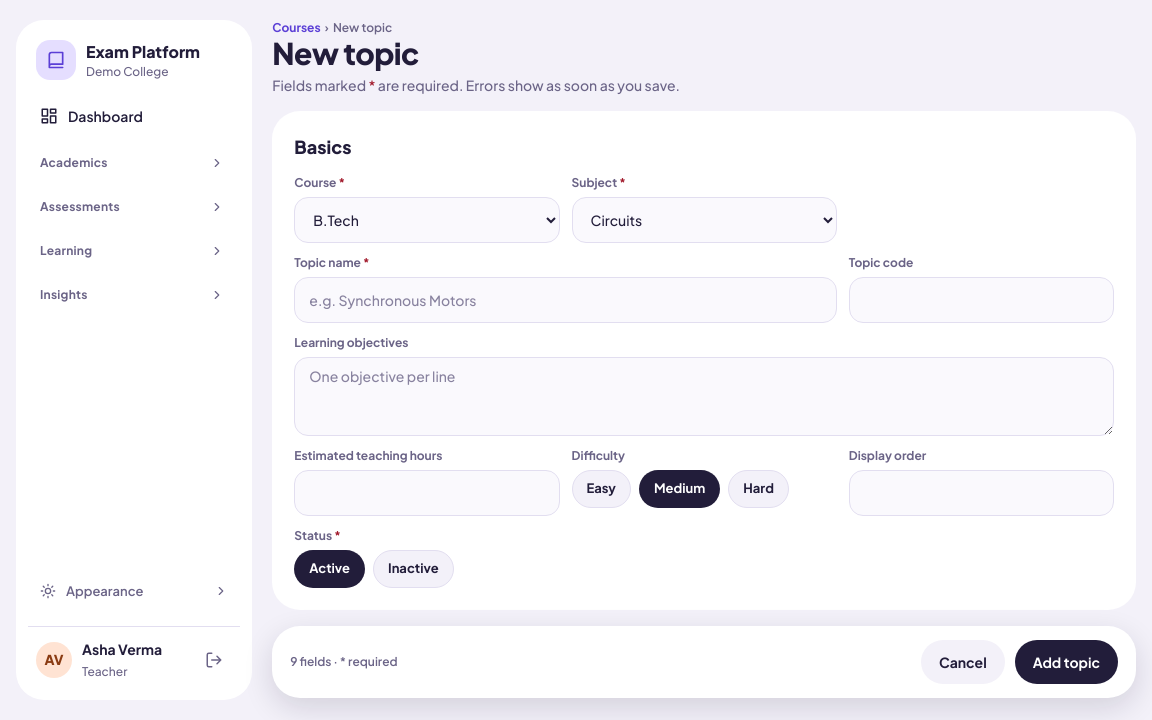
Test: Course, subject and topic pages › a teacher adds a topic to a subject; the course comes from the subject
The image size is (1152, 720).
Expected: the dropdown with test id "topic-form-course-select" shows "B.Tech", [294, 197, 560, 243]
Expected: the dropdown with test id "topic-form-subject-select" shows "Circuits", [572, 197, 837, 243]
Type "Ohm's Law" into the field with test id "topic-form-name-input".
click(566, 300); type("Ohm's Law")  # box [294, 277, 837, 323]
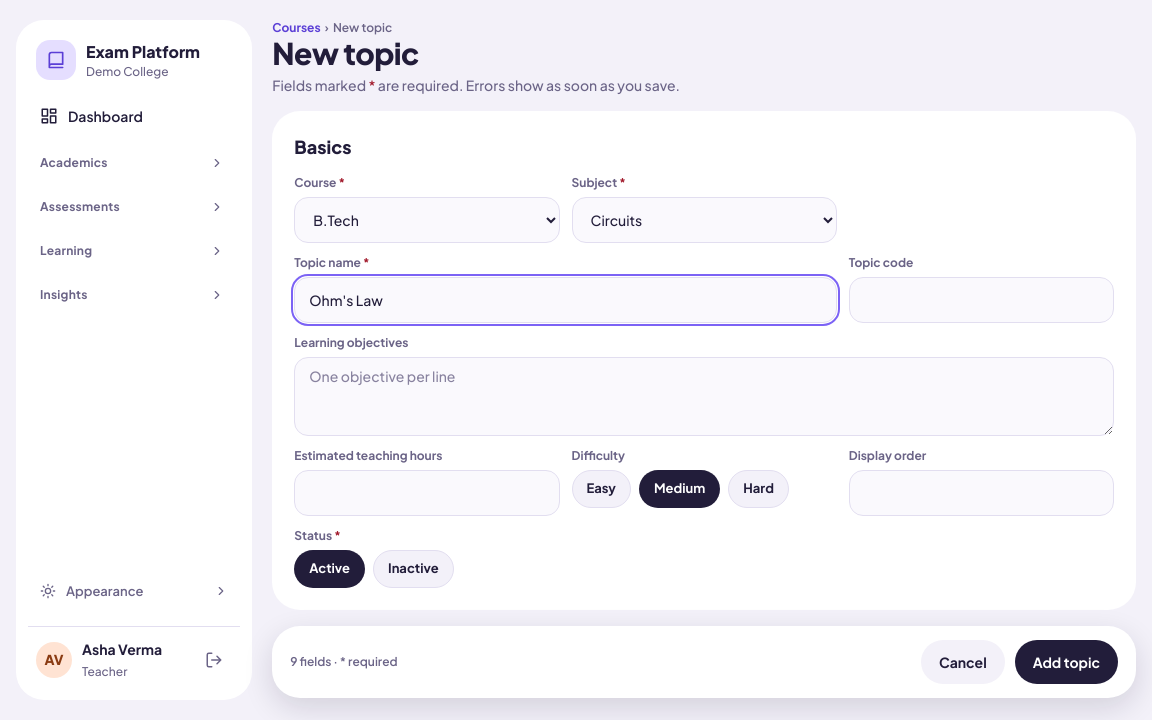
Click the radio button with test id "topic-form-difficulty-radio" showing "Hard".
click(759, 489)  # box [728, 470, 789, 508]
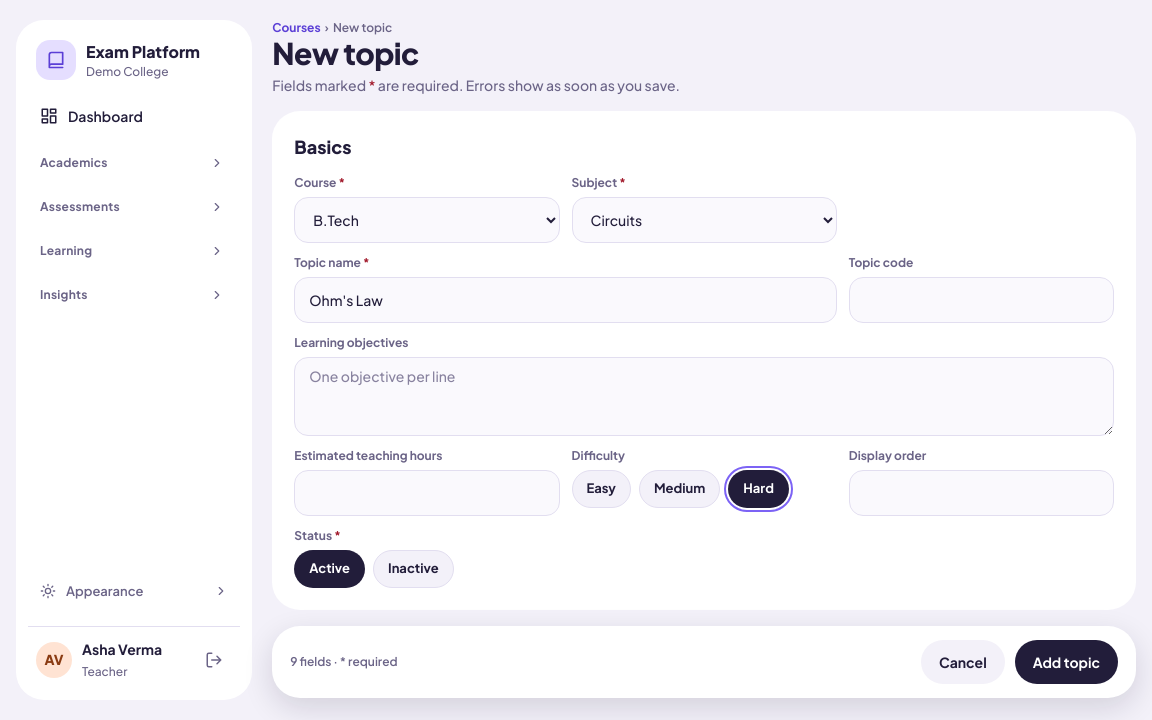
Click the button with test id "topic-form-save-btn".
click(1066, 662)  # box [1015, 640, 1118, 684]
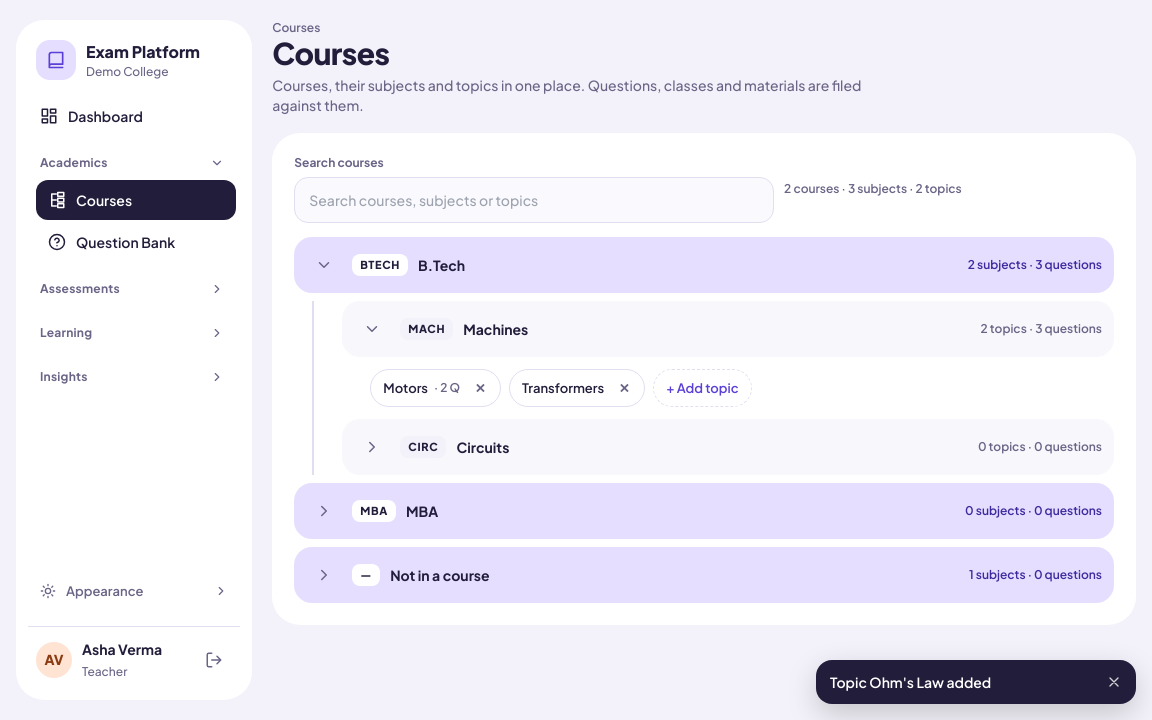
Expected: the element with test id "page-syllabus" is shown
